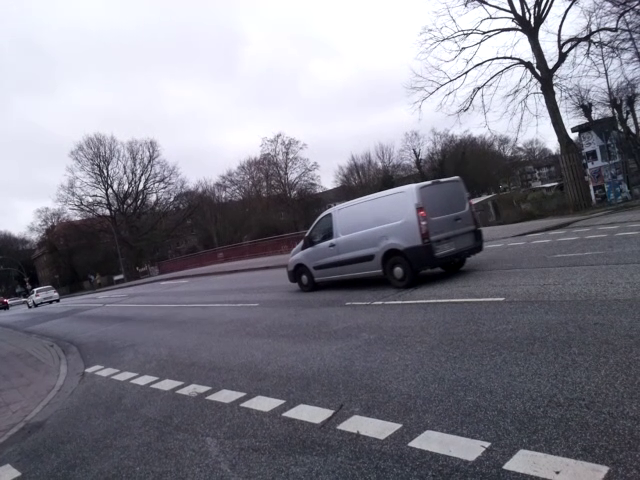car: (282, 174, 486, 288)
